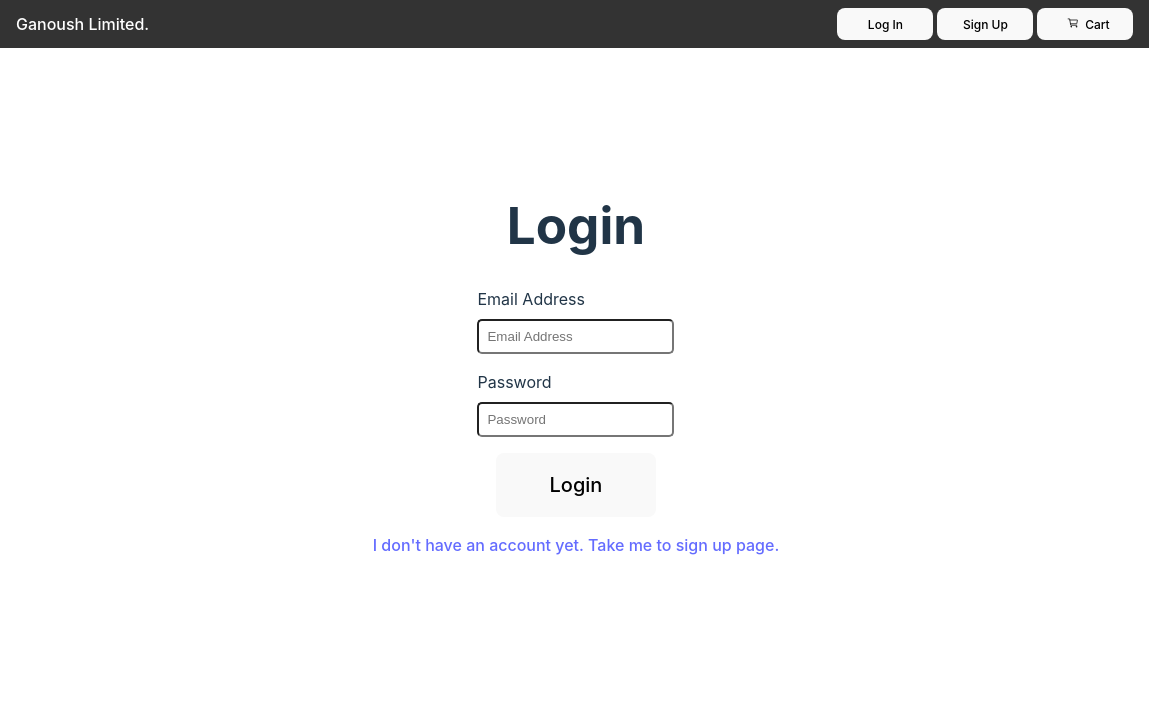
it: user login actions › should display validation errors for empty email and password
Click the button "Login": (576, 486) [496, 454, 656, 518]
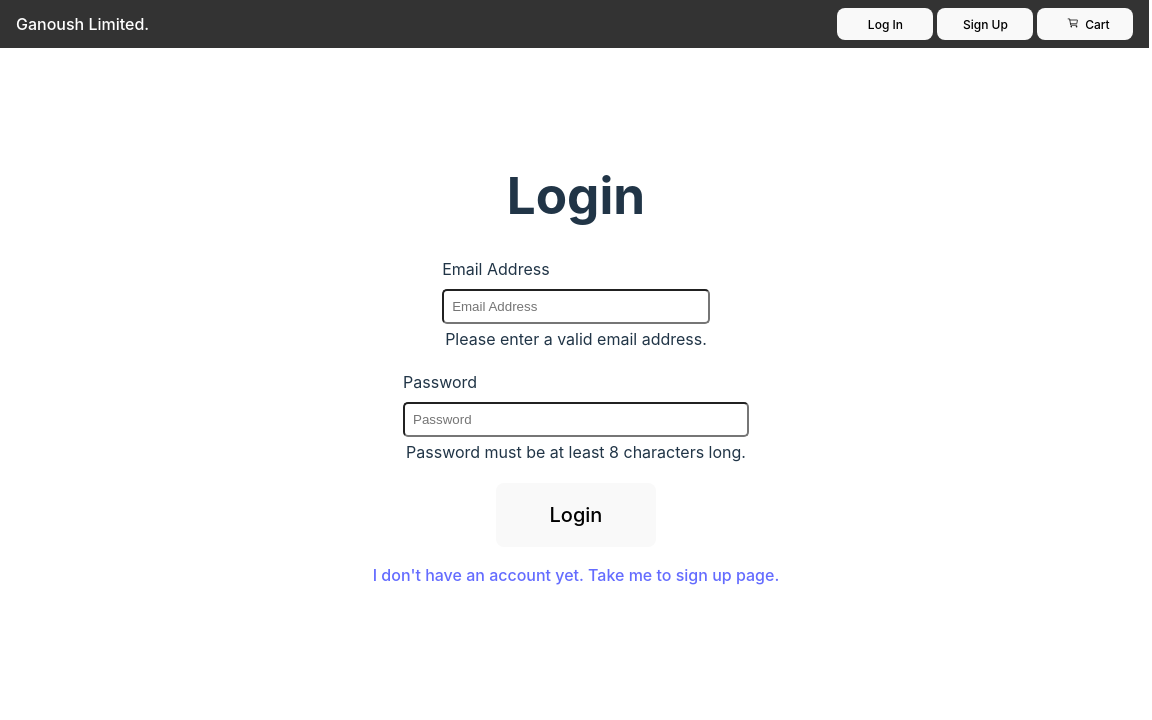
Now the text "Please enter a valid email address." is shown, box [442, 324, 710, 354]
Now the text "Password must be at least 8 characters long" is shown, box [406, 442, 746, 462]
